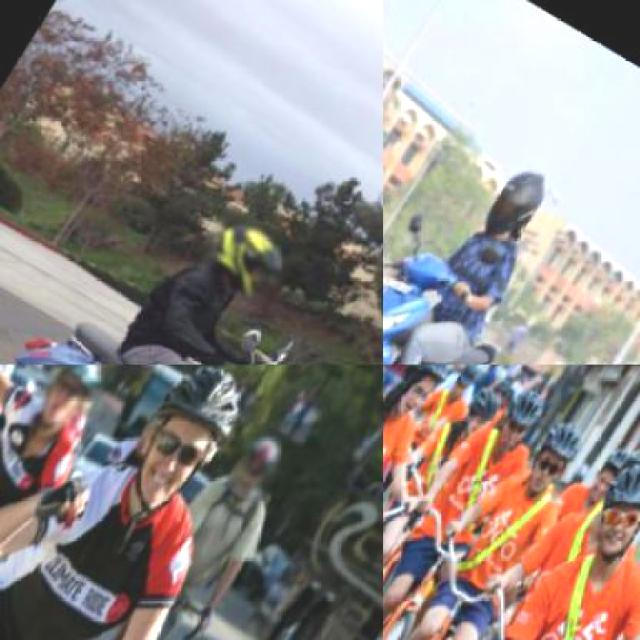With Helmet: (100, 364, 272, 536), (189, 199, 316, 315), (475, 148, 568, 250), (18, 364, 128, 450), (572, 445, 638, 566), (512, 409, 596, 503), (482, 374, 558, 464), (226, 420, 300, 505), (383, 365, 463, 426), (451, 378, 512, 445), (581, 439, 637, 508), (438, 364, 488, 410)
